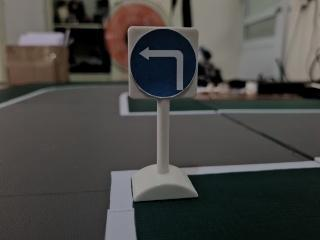left: (127, 26, 200, 103)
